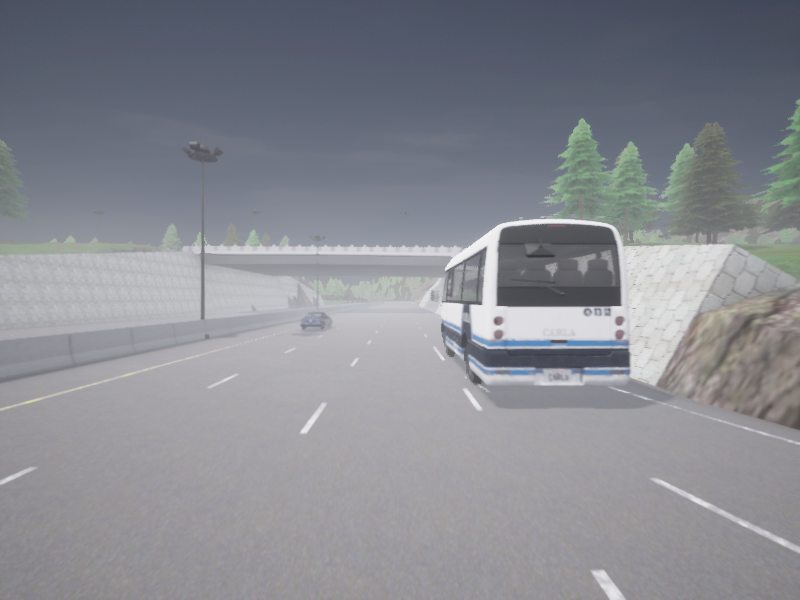vehicle: (431, 219, 629, 384), (300, 312, 331, 329)
